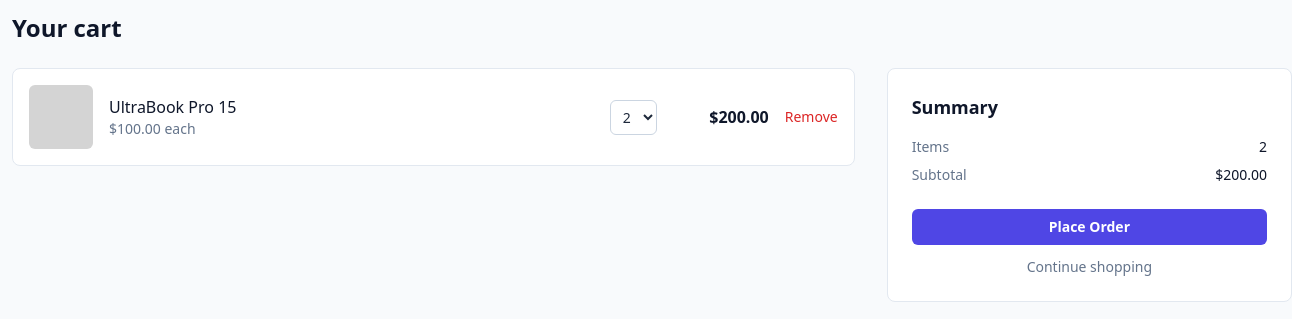
Test: Cart page › places an order with the demo user and shows the confirmation with order ID
What coordinates should you click on to do the following:
click the button "Place Order"
I would click on:
 (1089, 227)
Its box is [912,209,1267,245].
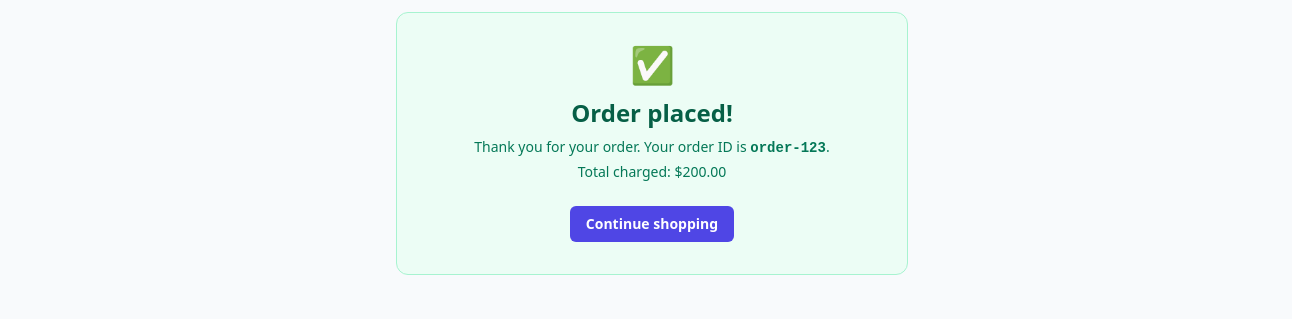
Expected: the text with test id "order-id" reads "order-123", [750,140,826,156]
